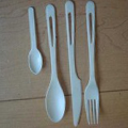fork: (83, 1, 115, 128)
